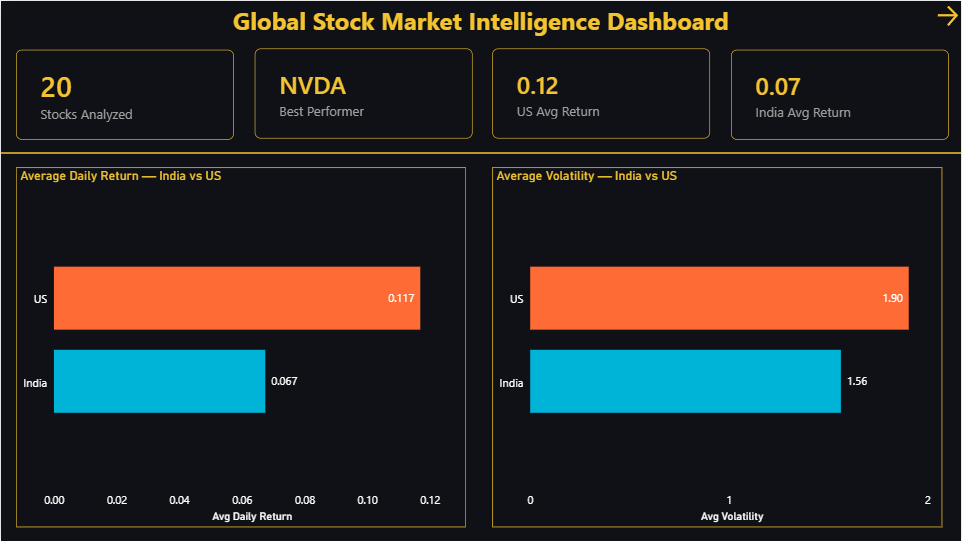

This screenshot's page, from the dashboard's own definition file:
{"tool":"powerbi","page":{"name":"Global Market Overview","canvas":[1280,720],"ordinal":0},"visuals":[{"type":"textbox","box":[0,0,1280,60],"z":0},{"type":"cardVisual","fields":{"Data":["_Measures.Total Stocks"]},"box":[20,65,290,120],"z":1000},{"type":"cardVisual","fields":{"Data":["_Measures.Best Performer"]},"box":[337.6,63.7,290,120],"z":2000},{"type":"cardVisual","fields":{"Data":["_Measures.US Avg Return"]},"box":[655.1,63.7,290,120],"z":3000},{"type":"cardVisual","fields":{"Data":["_Measures.India Avg Return"]},"box":[972.7,65.3,290,120],"z":4000},{"type":"clusteredBarChart","title":"Average Daily Return — India vs US","fields":{"Category":["stock_data_clean.Market"],"Y":["_Measures.Avg Daily Return"]},"box":[20,221.7,600,480],"z":5000},{"type":"clusteredBarChart","title":"Average Volatility — India vs US","fields":{"Category":["stock_data_clean.Market"],"Y":["_Measures.Avg Volatility"]},"box":[655,222,600,480],"z":6000},{"type":"shape","box":[0,196.7,1280,12],"z":7000},{"type":"actionButton","box":[1243.3,0,36.7,40],"z":7001}]}

Visuals, with their boxes in screenshot pixels (x1, y1, x2, y2), scaled from the page's 1280x720 canvas onto the 962x541 screenshot:
textbox: (left=0, top=0, right=961, bottom=45)
cardVisual - _Measures.Total Stocks: (left=15, top=49, right=233, bottom=139)
cardVisual - _Measures.Best Performer: (left=254, top=48, right=472, bottom=138)
cardVisual - _Measures.US Avg Return: (left=492, top=48, right=710, bottom=138)
cardVisual - _Measures.India Avg Return: (left=731, top=49, right=949, bottom=139)
"Average Daily Return — India vs US" clusteredBarChart: (left=15, top=167, right=466, bottom=527)
"Average Volatility — India vs US" clusteredBarChart: (left=492, top=167, right=943, bottom=527)
shape: (left=0, top=148, right=961, bottom=157)
actionButton: (left=934, top=0, right=961, bottom=30)
